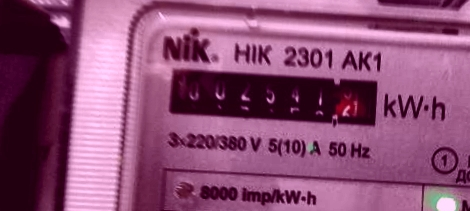0: (183, 75, 203, 103), (211, 74, 227, 102)
1: (311, 80, 326, 108)
2: (235, 76, 253, 102)
4: (287, 79, 302, 103)
5: (260, 77, 280, 106)
6: (337, 99, 353, 118)
screen: (155, 51, 393, 139)
